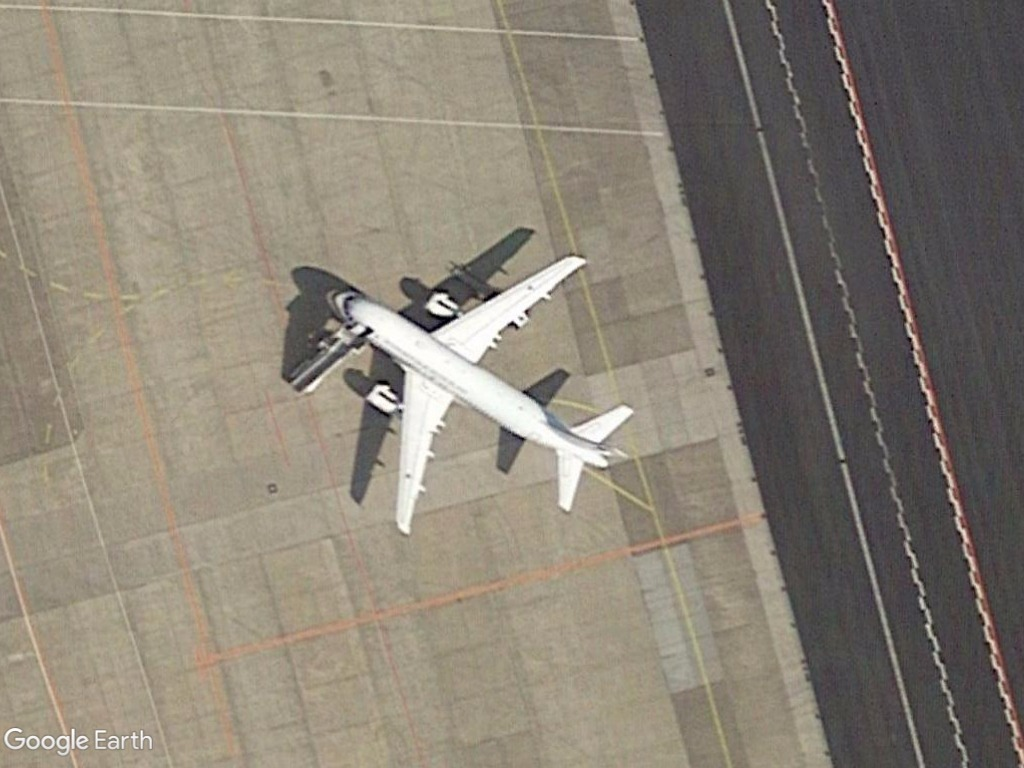airliner: (295, 231, 646, 549)
stairtruck: (276, 325, 363, 401)
